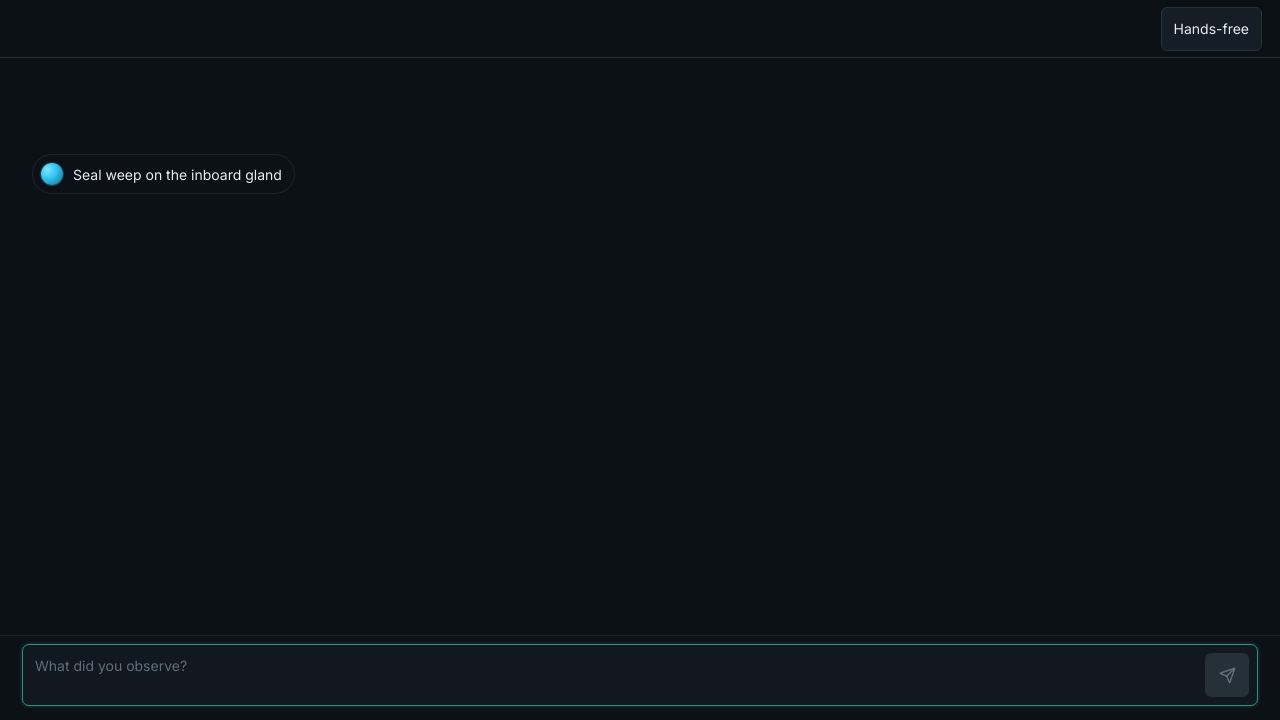
FieldPage › QR is a composer tool that attaches to the turn
Expected: the text box with placeholder "What did you observe?" is shown, left=35, top=655, right=1197, bottom=697
Click the button with test id "sample-seed-chip" at (163, 174), box left=32, top=154, right=295, bottom=194
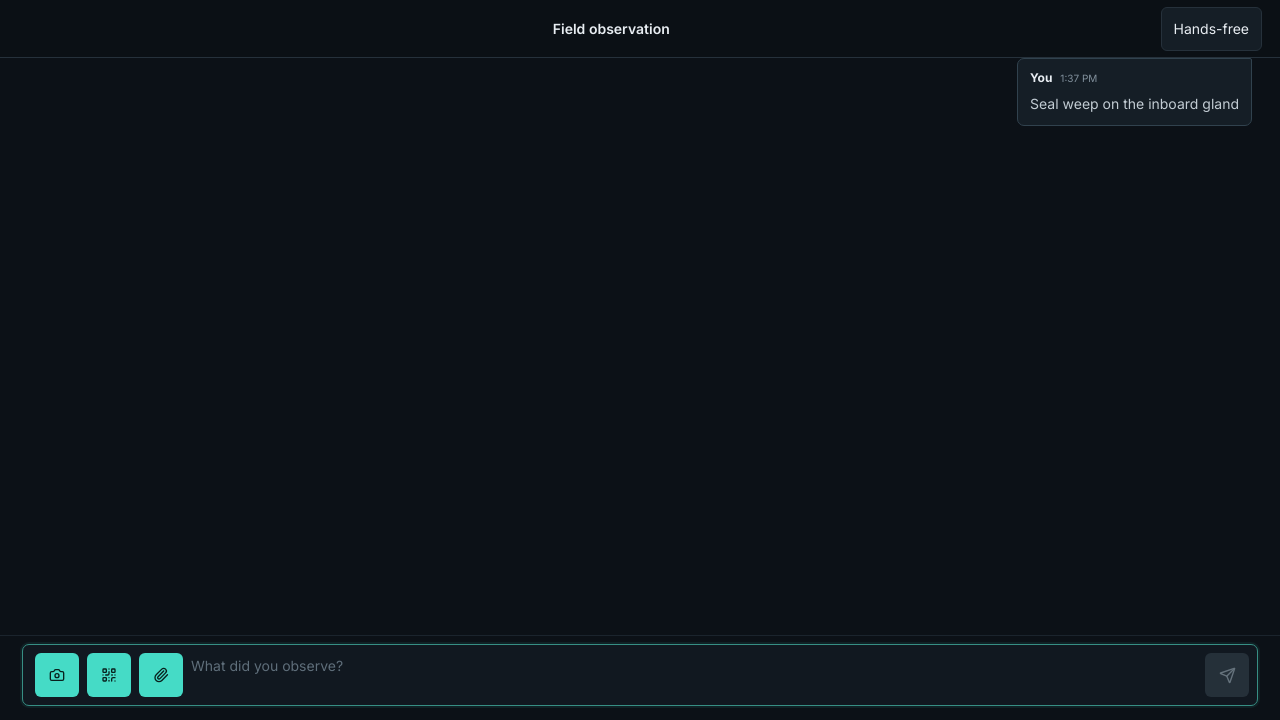
Click the button named "QR" at (109, 675), box left=87, top=653, right=131, bottom=697
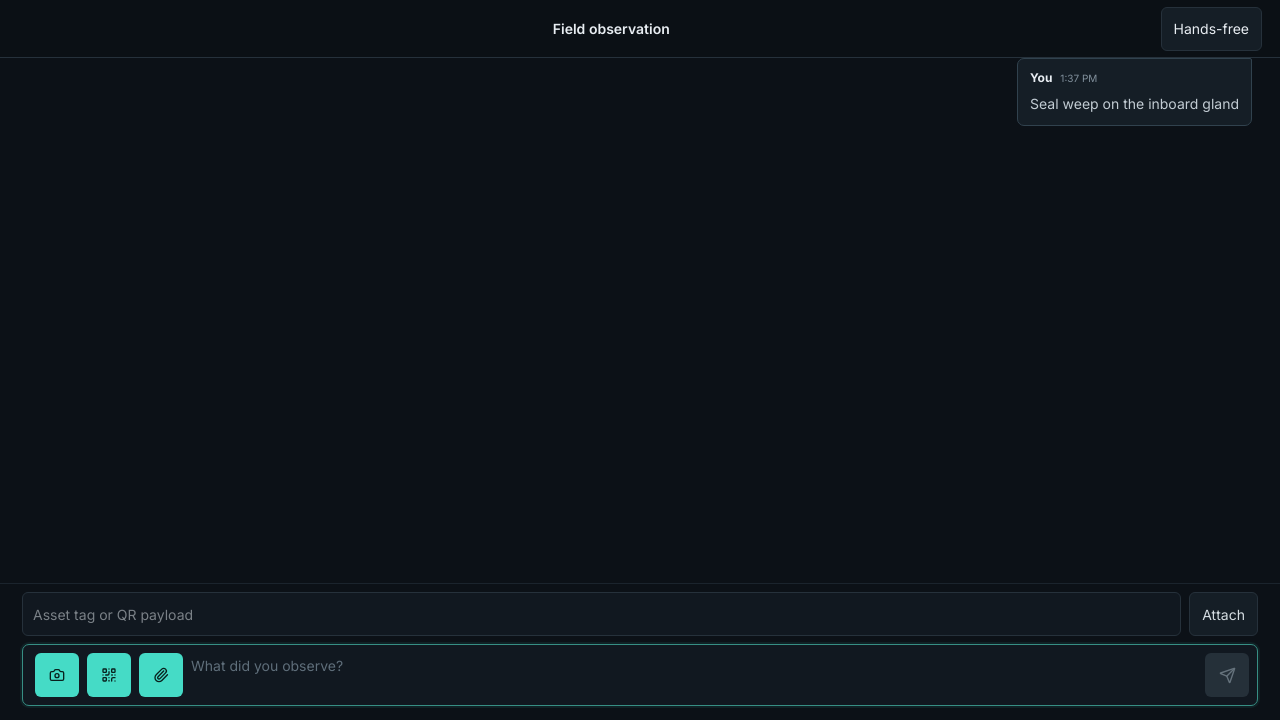
Type "T301" into the field labelled "Asset tag or QR payload" at (602, 614), box left=22, top=592, right=1181, bottom=636
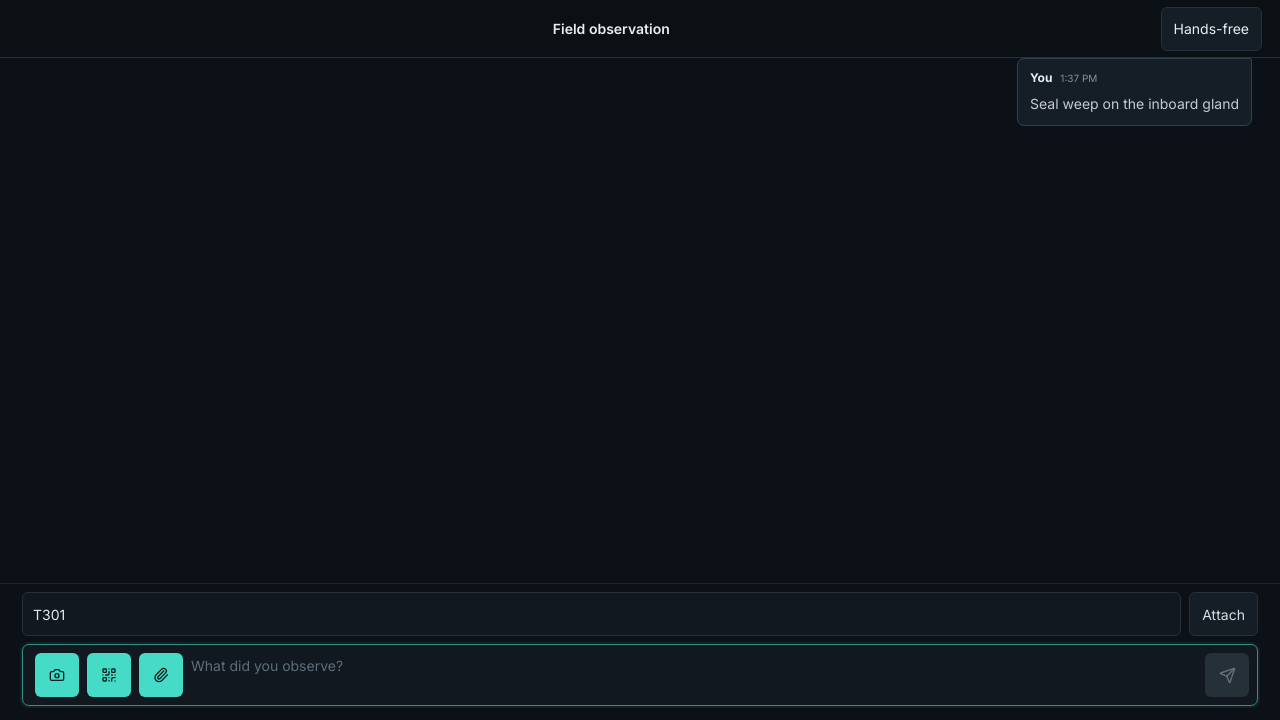
Click the button "Attach" at (1224, 614), box left=1189, top=592, right=1258, bottom=636
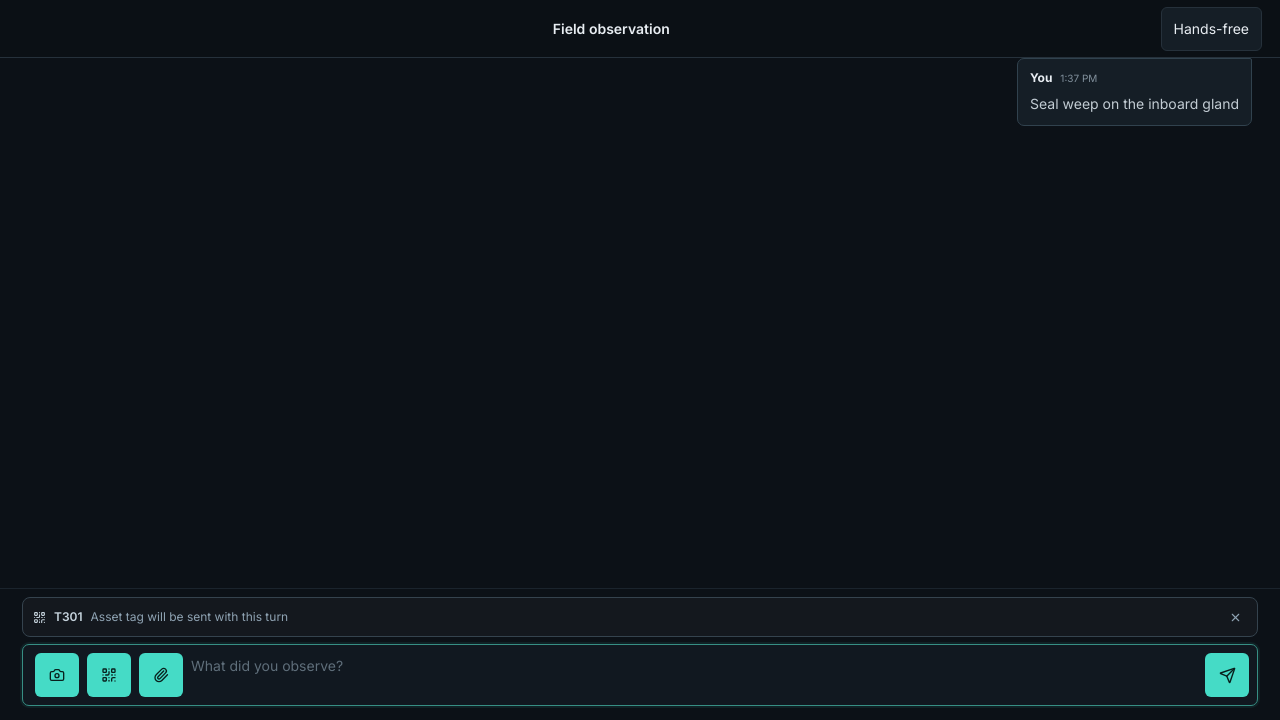
Now the button named "Camera" is shown, box left=35, top=653, right=79, bottom=697
Now the text "T301" is shown, box left=54, top=608, right=82, bottom=626
Now the text "Asset tag will be sent with this turn" is shown, box left=90, top=609, right=288, bottom=624
